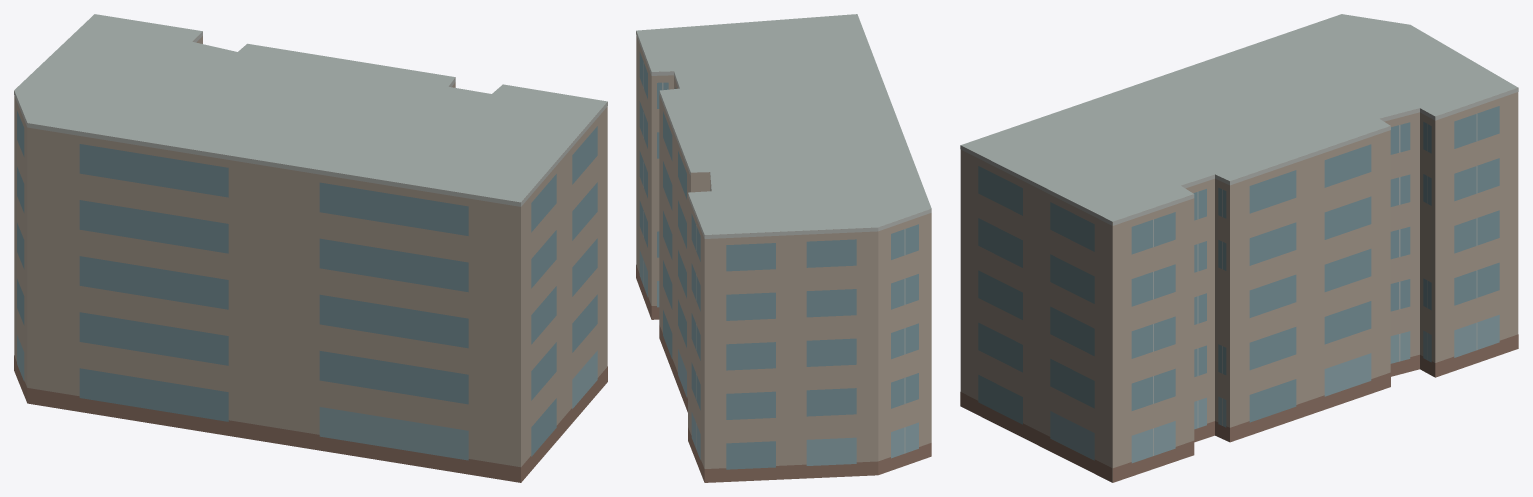
File: survey-upis-32777092.glb
3 views of the same model, side by side, from view 1: azimuth 30°, elevation 25°; view 2: azimuth 150°, elevation 25°; view 3: azimuth 270°, elevation 25° (orthographic). The views are drawn at different scales.
Parts seen in each view (by area): view 1: survey-upis-32777092.tmp; view 2: survey-upis-32777092.tmp; view 3: survey-upis-32777092.tmp.
Part boxes in pixels (x1=…): survey-upis-32777092.tmp: x1=14, y1=14, x2=607, y2=482; survey-upis-32777092.tmp: x1=636, y1=14, x2=931, y2=482; survey-upis-32777092.tmp: x1=960, y1=14, x2=1518, y2=482.
Size of the model in its own units: 26.04 by 15.25 by 29.54.
